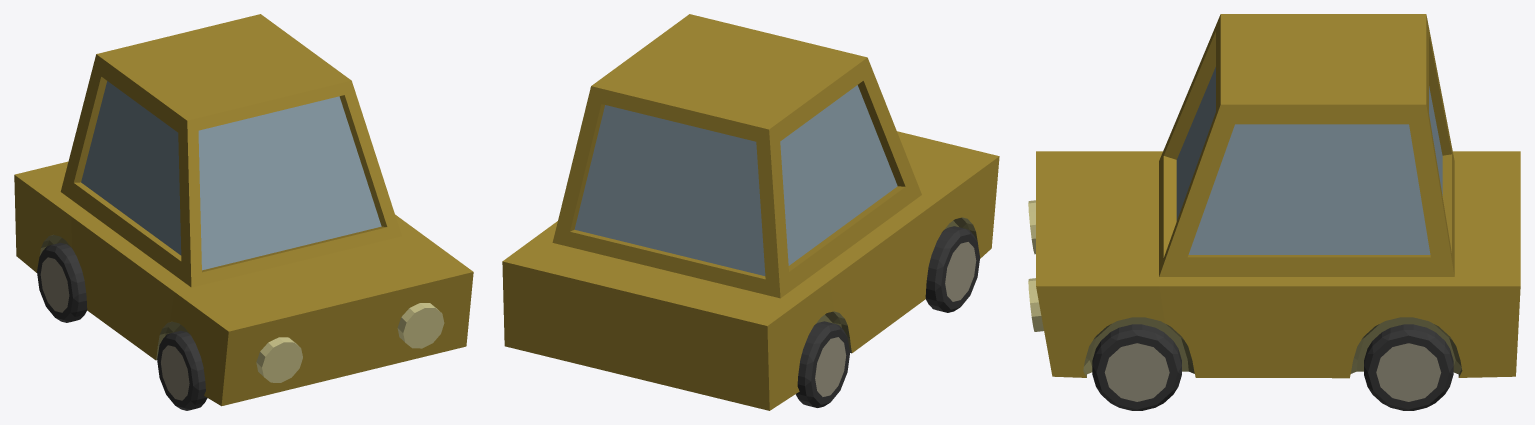
Rendered from car_01.fbx.
3 views of the same model, side by side, from view 1: azimuth 30°, elevation 25°; view 2: azimuth 150°, elevation 25°; view 3: azimuth 270°, elevation 25° (orthographic). The views are drawn at different scales.
Visible parts, largest first — view 1: car; view 2: car; view 3: car.
Part boxes in pixels (<box>): car: <box>14,14,473,410</box>; car: <box>502,14,999,410</box>; car: <box>1028,14,1520,410</box>.
Bounding box in the file's own units: 429 × 389 × 616.
